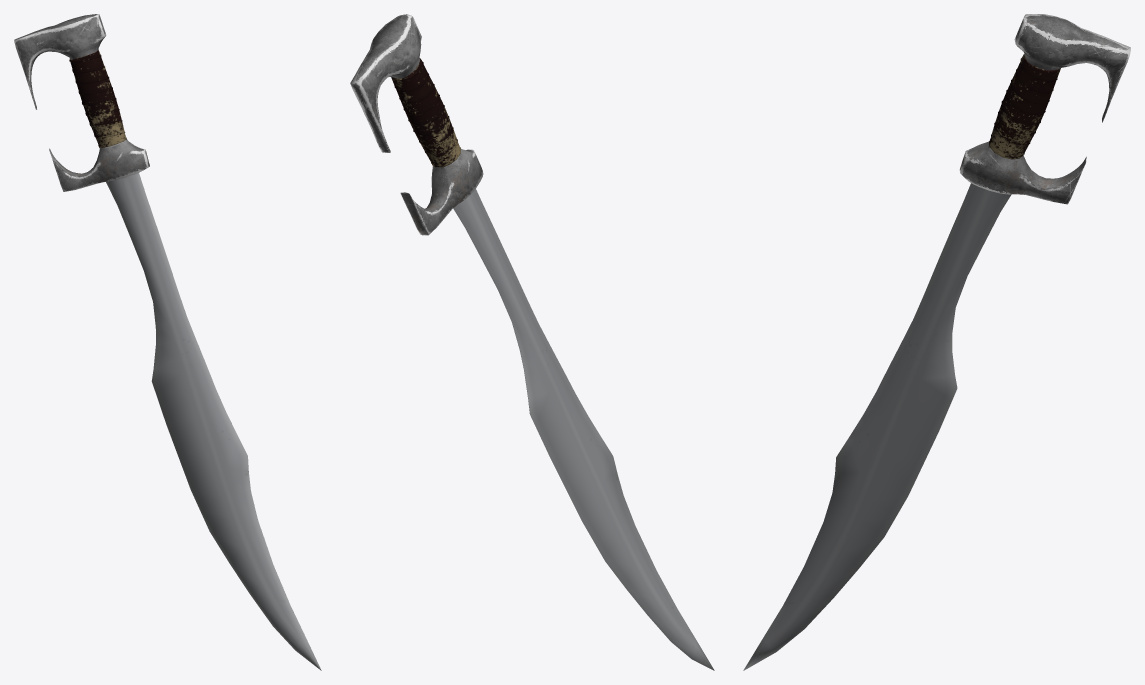
File: sword.glb
The picture shows the model from 3 angles, left to right: view 1: azimuth 90°, elevation 25°; view 2: azimuth 150°, elevation 25°; view 3: azimuth 270°, elevation 25°; orthographic projection. The views are drawn at different scales.
Visible parts, largest first — view 1: Sword_lp.002; view 2: Sword_lp.002; view 3: Sword_lp.002.
Boxes of the visible parts, box(x1,y1,x2,y2) form: Sword_lp.002: box(14, 14, 321, 670); Sword_lp.002: box(350, 14, 714, 670); Sword_lp.002: box(743, 14, 1130, 670).
Size of the model in its own units: 283 by 1032 by 490.
1 material, 1 textured.
